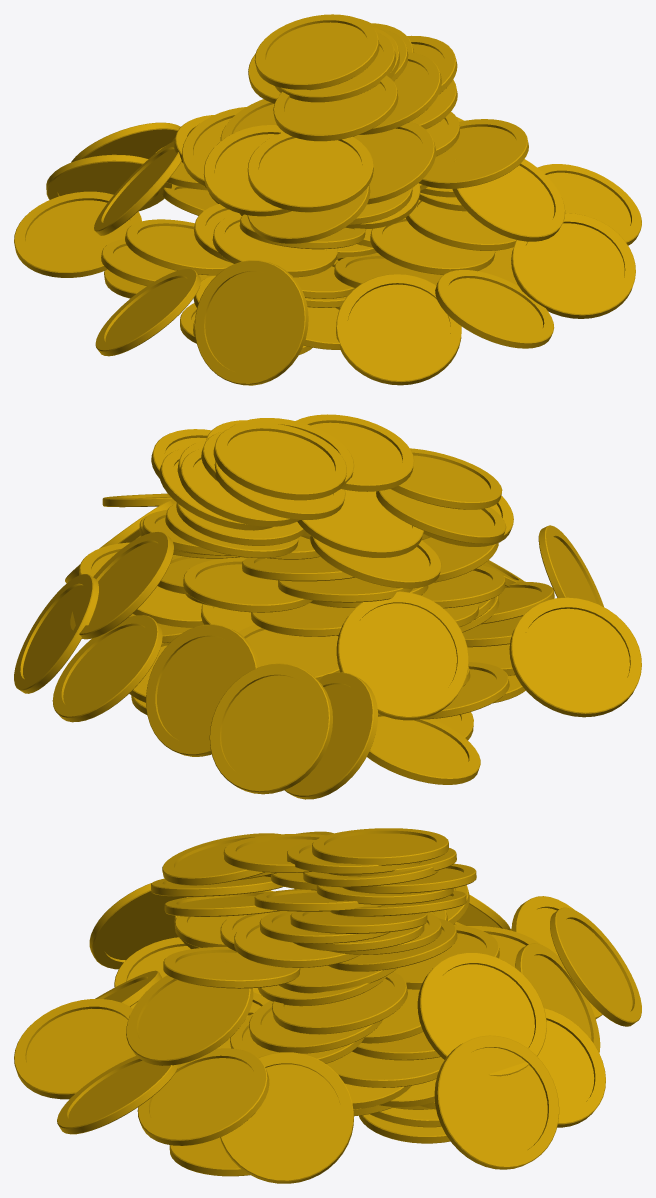
The model's file is Coin.fbx.
3 views of the same model, one above another, from view 1: azimuth 30°, elevation 25°; view 2: azimuth 150°, elevation 25°; view 3: azimuth 270°, elevation 25° (orthographic). The views are drawn at different scales.
Parts seen in each view (by area): view 1: Монетки; view 2: Монетки; view 3: Монетки.
Part boxes in pixels (x1,y1,x2,y2): Монетки: (14,14,641,385); Монетки: (14,414,641,799); Монетки: (14,828,641,1183).
Bounding box in the file's own units: 149 × 66.03 × 147.
